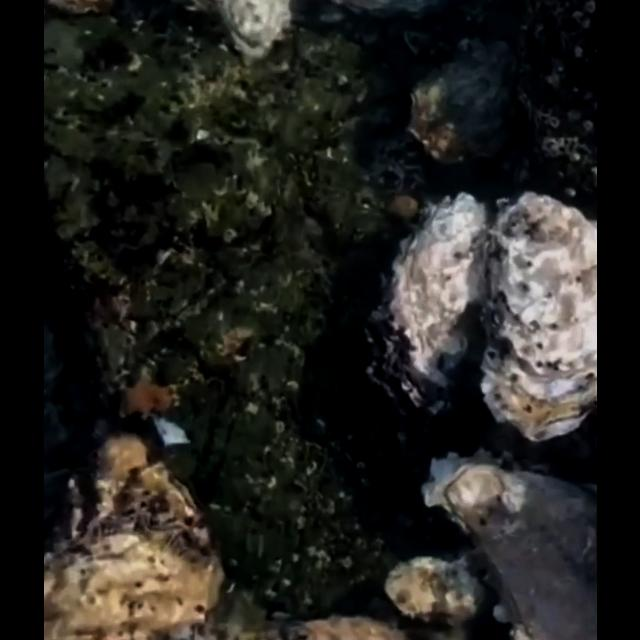Oyster-Closed: (44, 435, 226, 640), (419, 452, 596, 640), (478, 194, 596, 448), (406, 46, 518, 172), (162, 0, 294, 74), (384, 558, 490, 632)
Oyster-Open: (363, 194, 493, 428)
